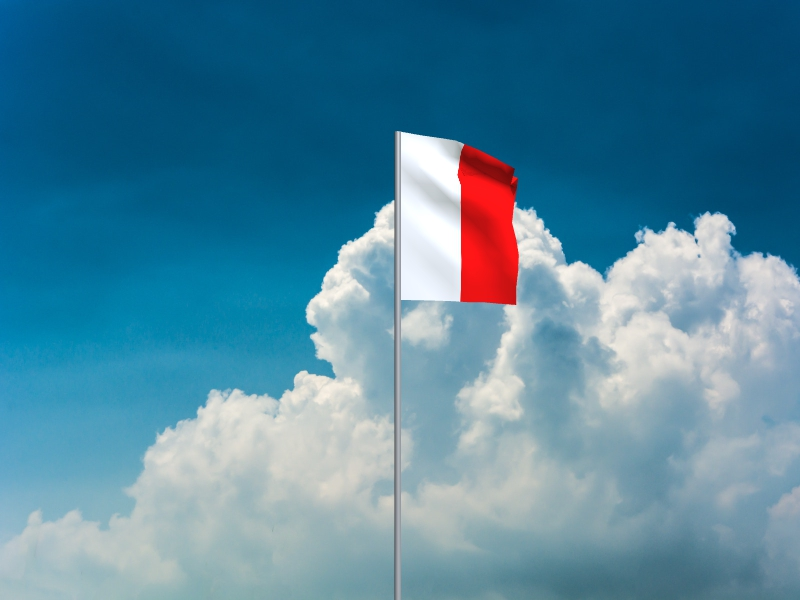id: (402, 132, 520, 306)
